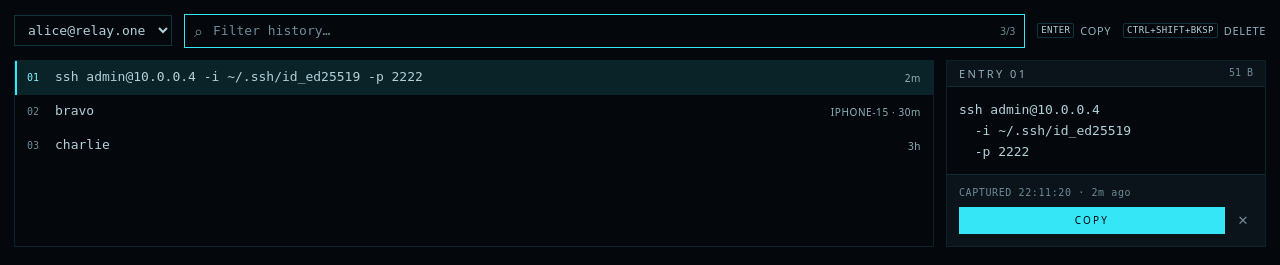
Test: HistorySection — the Viewed Pairing › re-reads history for the newly Viewed Pairing without making it Active
Select "bob@relay.two" in the dropdown with test id "viewed-pairing" at [93, 31], box [14,15,172,46]
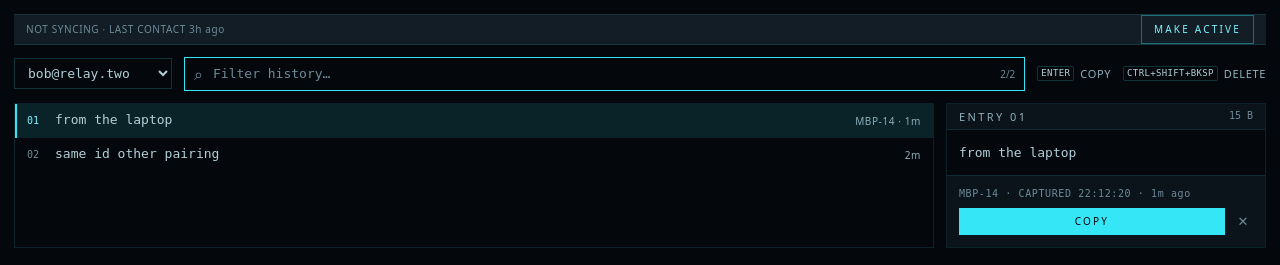
Expected: the list item with test id "entry-row" shows "from the laptop", [55,112,172,127]
